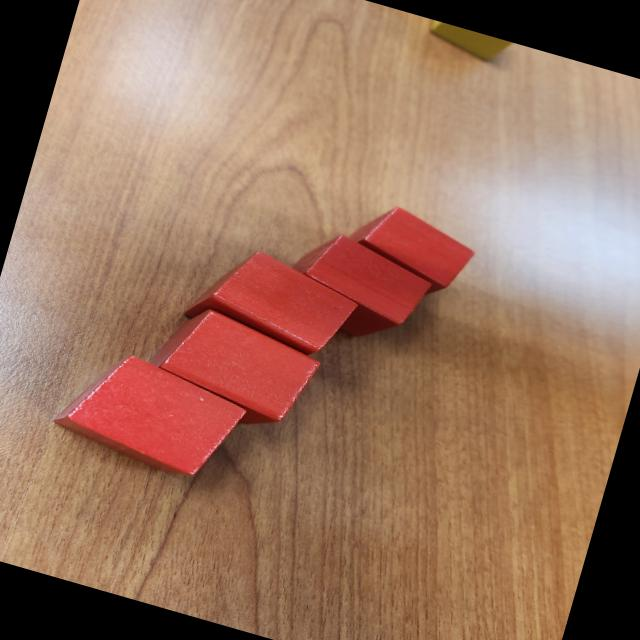red: (44, 338, 254, 491), (136, 296, 327, 442), (182, 234, 364, 363), (274, 222, 438, 354), (342, 196, 483, 304)
yellow: (418, 17, 518, 70)
